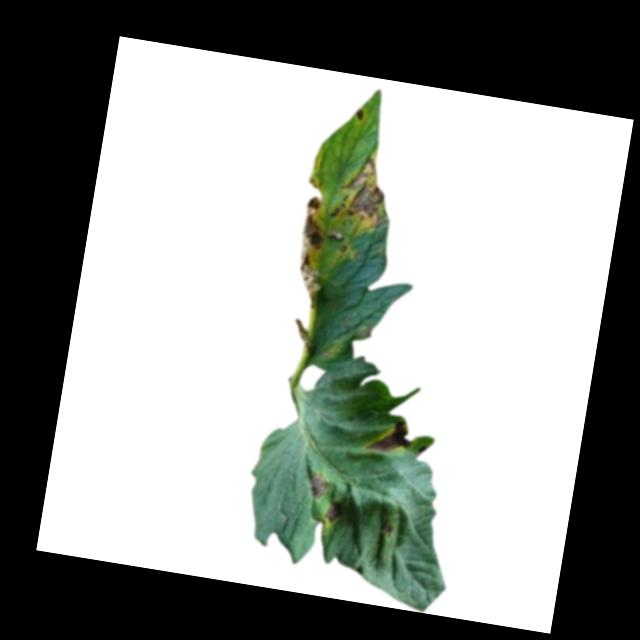Early_blight: (290, 179, 341, 306), (333, 152, 401, 231), (364, 418, 414, 462), (306, 475, 329, 496), (321, 504, 338, 524), (351, 106, 365, 125)
